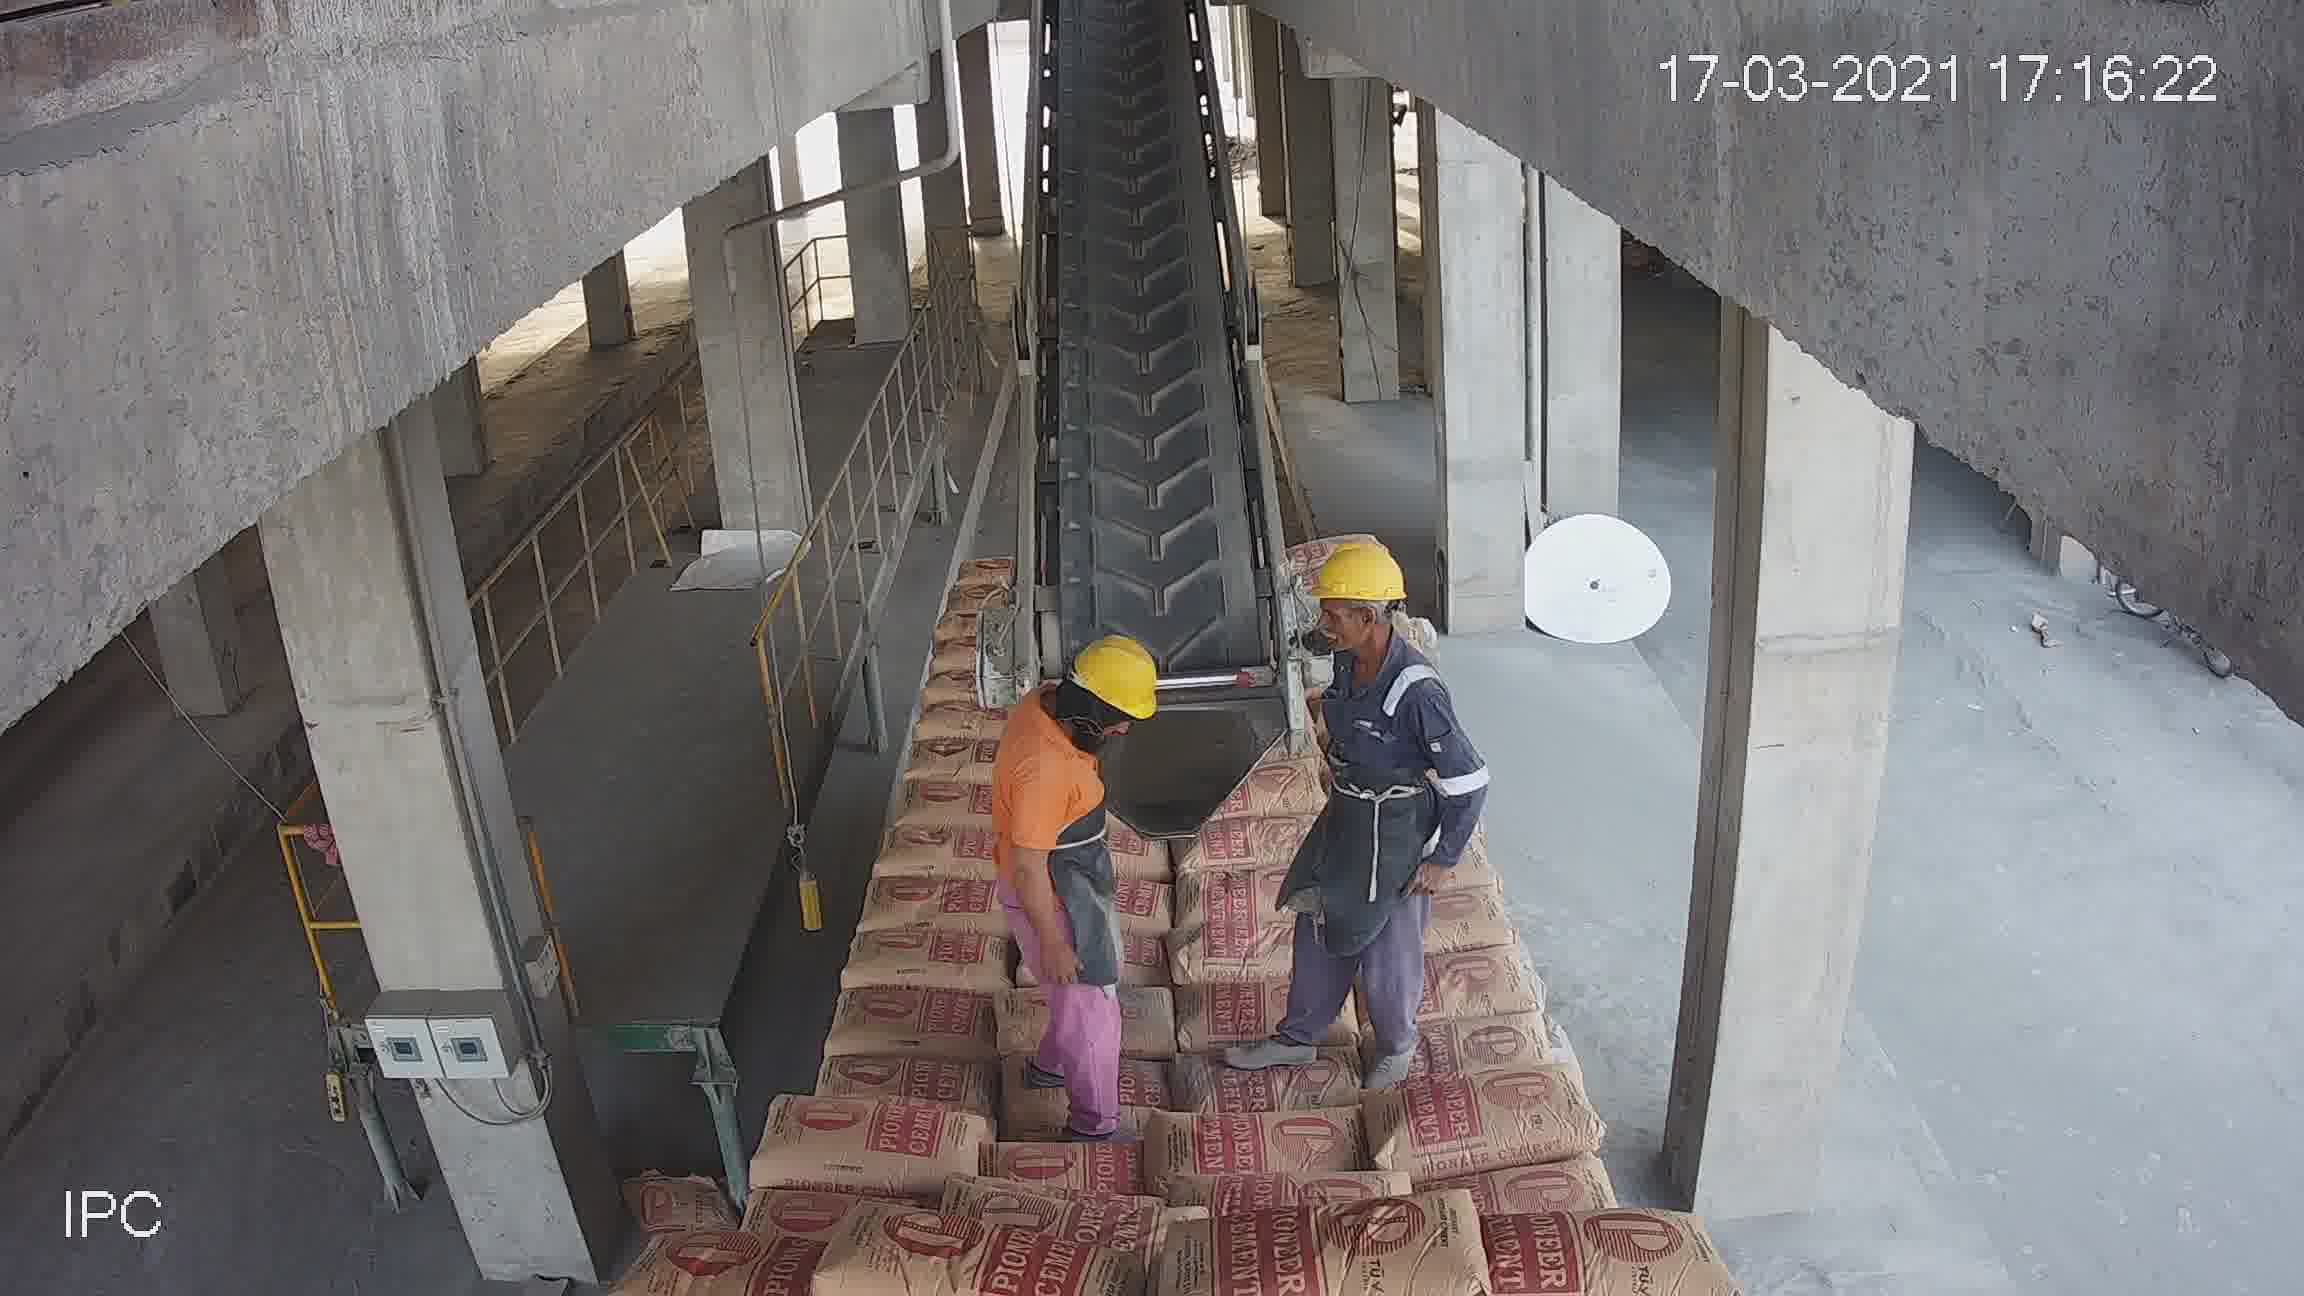bag_h: (1348, 1063, 1605, 1192), (793, 1215, 1133, 1294), (753, 1097, 999, 1193), (1150, 1105, 1377, 1199), (1179, 1032, 1364, 1112), (836, 983, 1002, 1067), (638, 1228, 847, 1294), (831, 1033, 1014, 1108), (1010, 1049, 1182, 1127), (992, 1139, 1165, 1207), (1416, 946, 1541, 1038), (840, 927, 1014, 991), (1416, 1005, 1571, 1074), (1180, 866, 1290, 946), (1173, 927, 1305, 991), (864, 869, 999, 930), (1188, 812, 1302, 878), (1184, 983, 1290, 1043), (869, 828, 995, 873)
belt: (1008, 57, 1272, 775)
